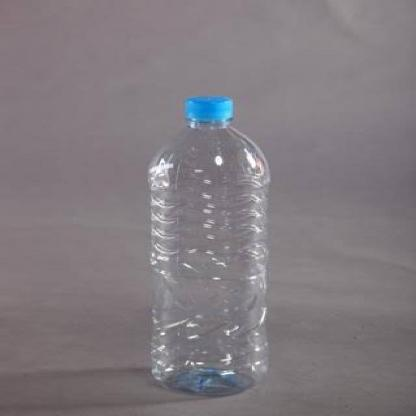Plastic Bottle: (148, 96, 270, 396)
